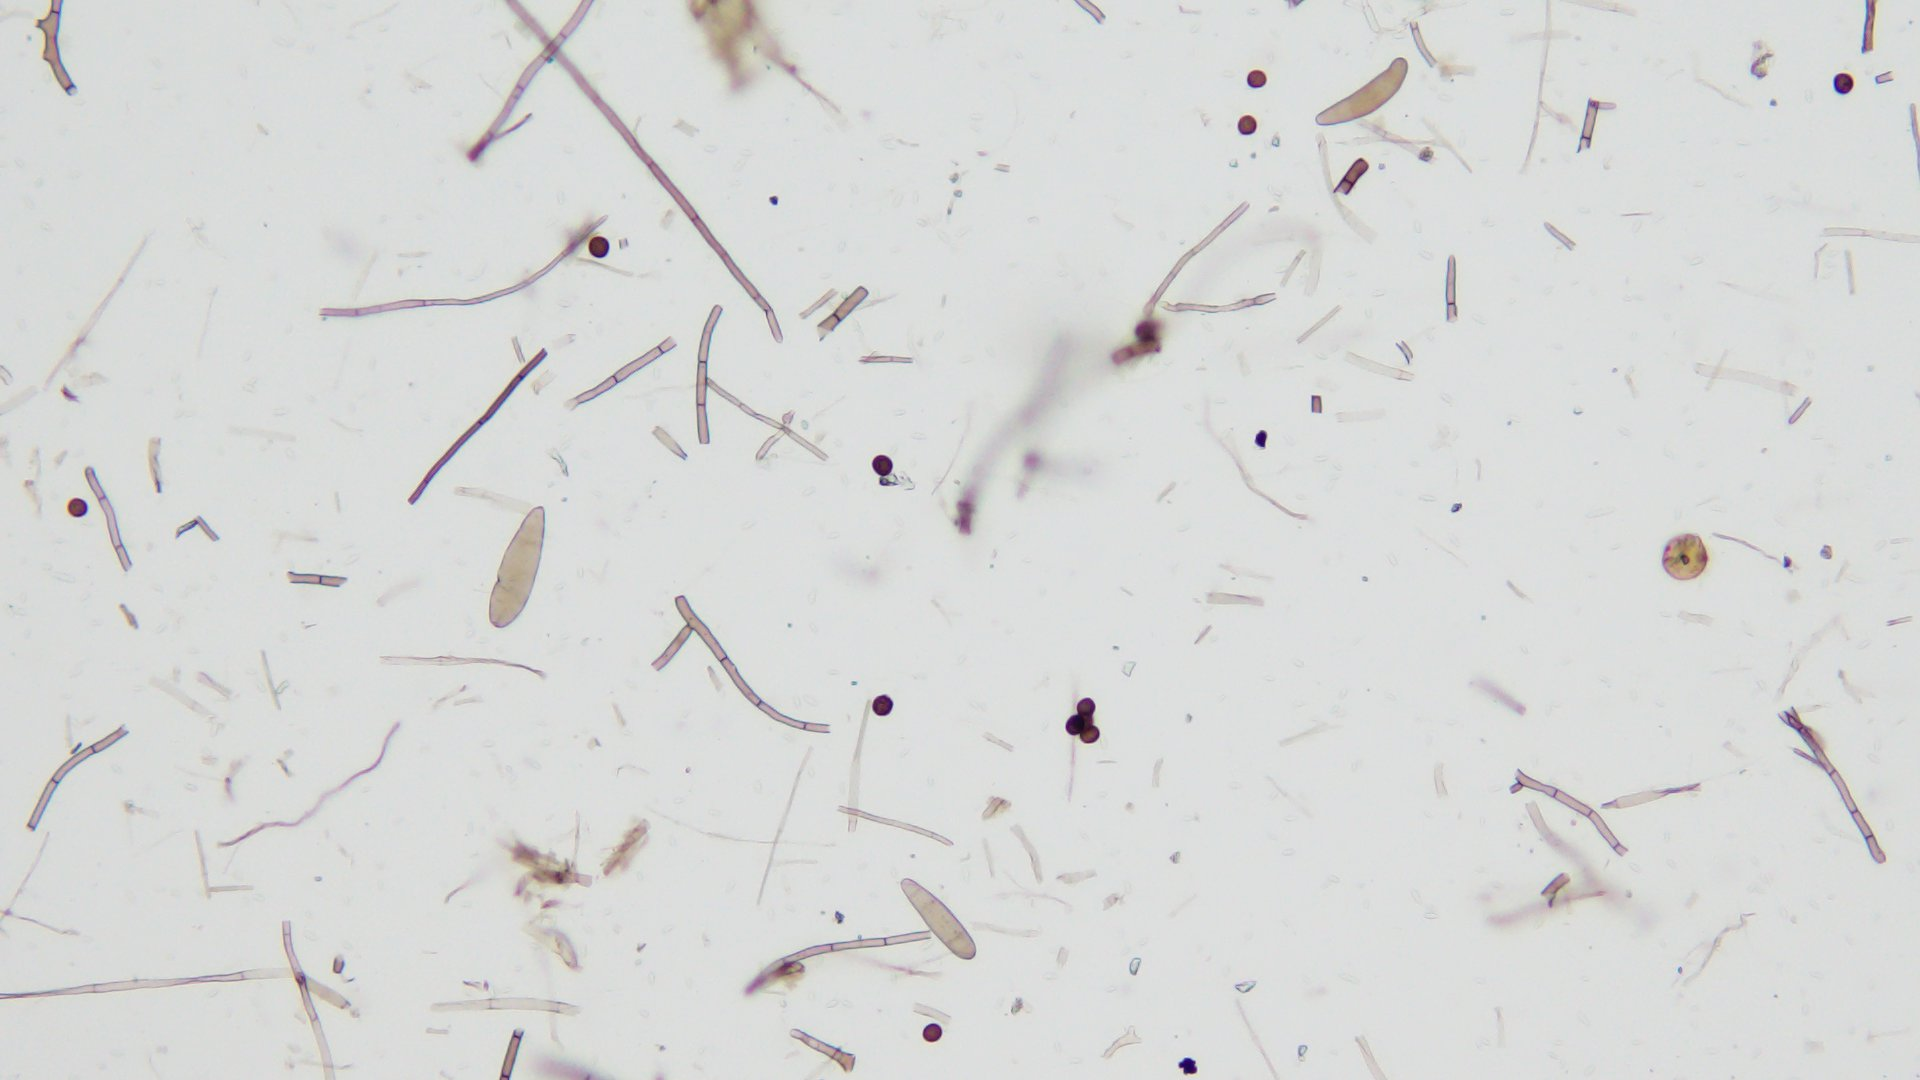dbb_spore: (495, 508, 550, 630), (898, 876, 978, 960), (1317, 57, 1408, 128)
shs_spore: (587, 233, 615, 258), (872, 454, 895, 479), (872, 694, 895, 717), (65, 498, 88, 520), (1062, 715, 1083, 737), (922, 1023, 943, 1044), (1073, 698, 1096, 717), (1834, 73, 1854, 95), (1081, 727, 1101, 744)
xb_spore: (1662, 531, 1706, 580)
